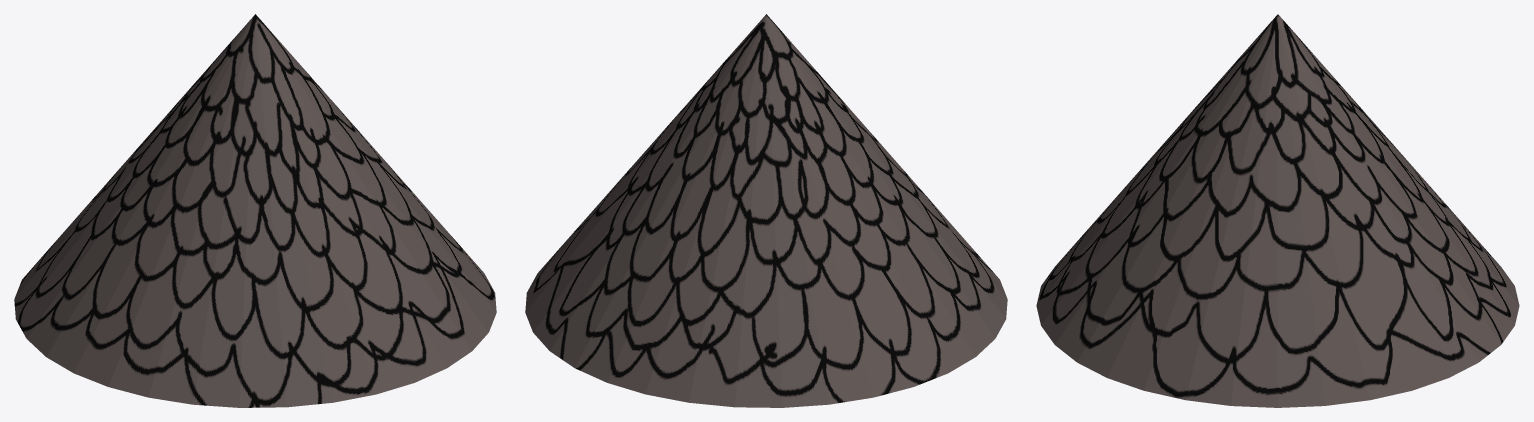
File: roof.obj
The picture shows the model from 3 angles, left to right: view 1: azimuth 30°, elevation 25°; view 2: azimuth 150°, elevation 25°; view 3: azimuth 270°, elevation 25°; orthographic projection.
Visible parts, largest first — view 1: Roof_Cone; view 2: Roof_Cone; view 3: Roof_Cone.
Part boxes in pixels (x1,y1,x2,y2): Roof_Cone: (14,14,496,407); Roof_Cone: (525,14,1007,407); Roof_Cone: (1036,14,1519,407).
Bounding box in the file's own units: 3 × 2 × 3.
Materials: 1 (1 with a texture image).
